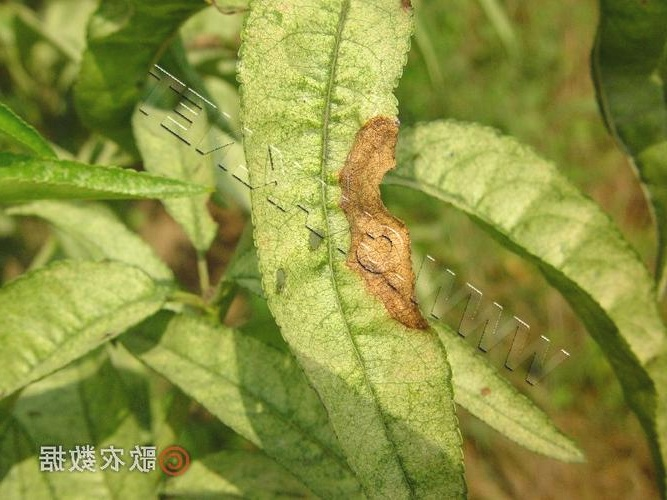Anthracnose: (339, 112, 411, 346)
